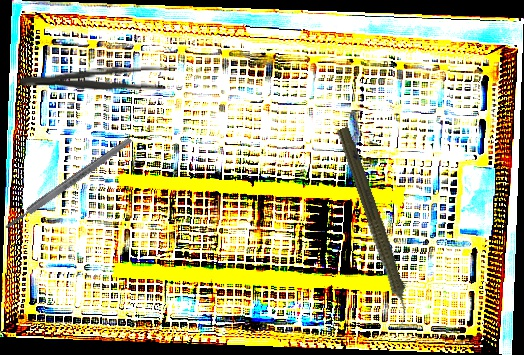Dressing Forceps: (18, 63, 178, 96)
Handpiece: (329, 125, 420, 331)
Scalpel Handle: (2, 135, 135, 232)
